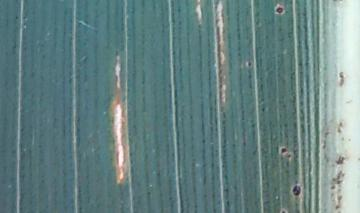tarspot: (292, 184, 301, 196), (274, 5, 284, 15), (279, 146, 287, 154), (246, 60, 253, 67), (280, 208, 288, 213), (286, 153, 292, 159)
